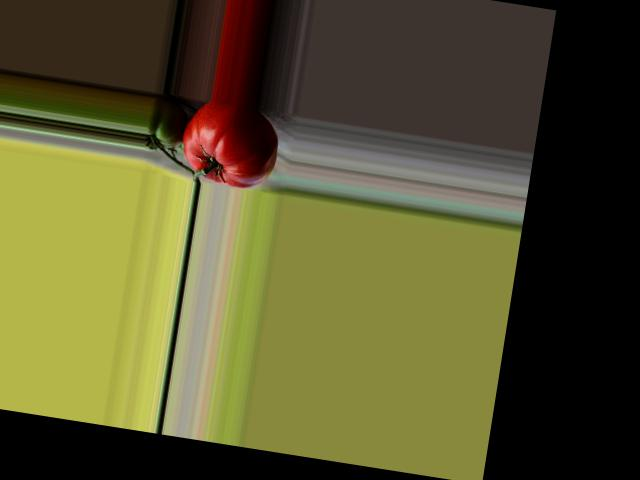tomato: (177, 96, 284, 192)
